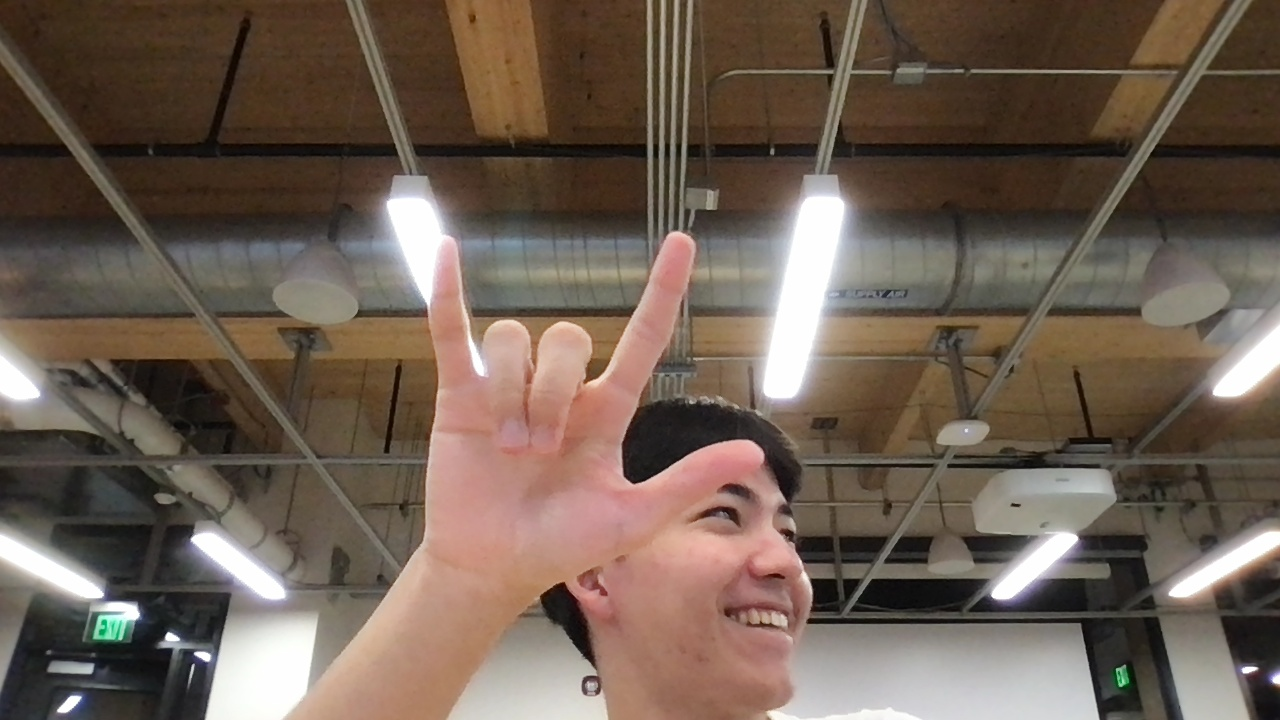I love you: (334, 228, 797, 632)
